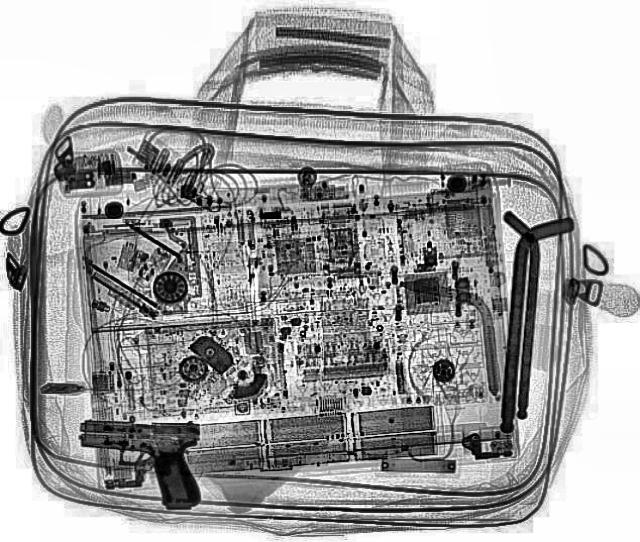Gun: (70, 416, 206, 510)
